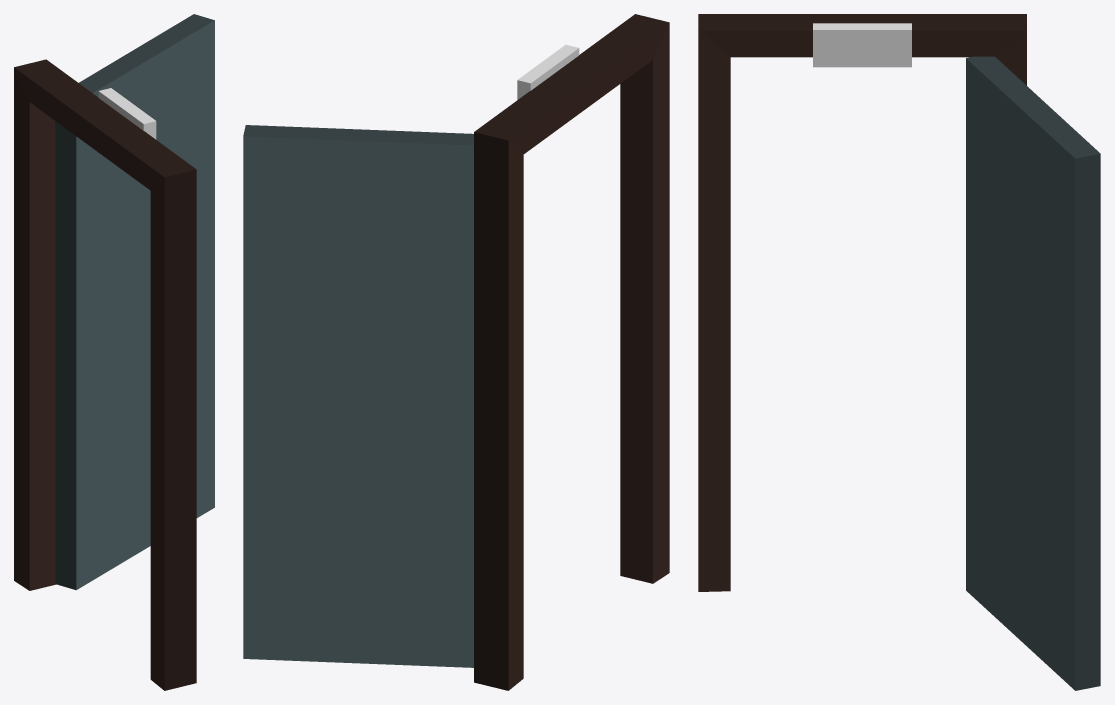
File: exitDoor.fbx
3 renders of one model, left to right at view 1: azimuth 30°, elevation 25°; view 2: azimuth 150°, elevation 25°; view 3: azimuth 270°, elevation 25°, orthographic. The views are drawn at different scales.
Parts seen in each view (by area): view 1: door, doorway, exit sign; view 2: door, doorway, exit sign; view 3: door, doorway, exit sign.
Boxes of the visible parts, x1,y1,x2,y2 form: door: (55, 14, 214, 590); doorway: (14, 59, 196, 690); exit sign: (98, 88, 156, 139); door: (243, 125, 473, 667); doorway: (474, 14, 669, 690); exit sign: (517, 44, 579, 99); door: (966, 56, 1100, 690); doorway: (698, 14, 1026, 591); exit sign: (813, 23, 911, 67).
Bounding box in the file's own units: 171 × 382 × 245.
